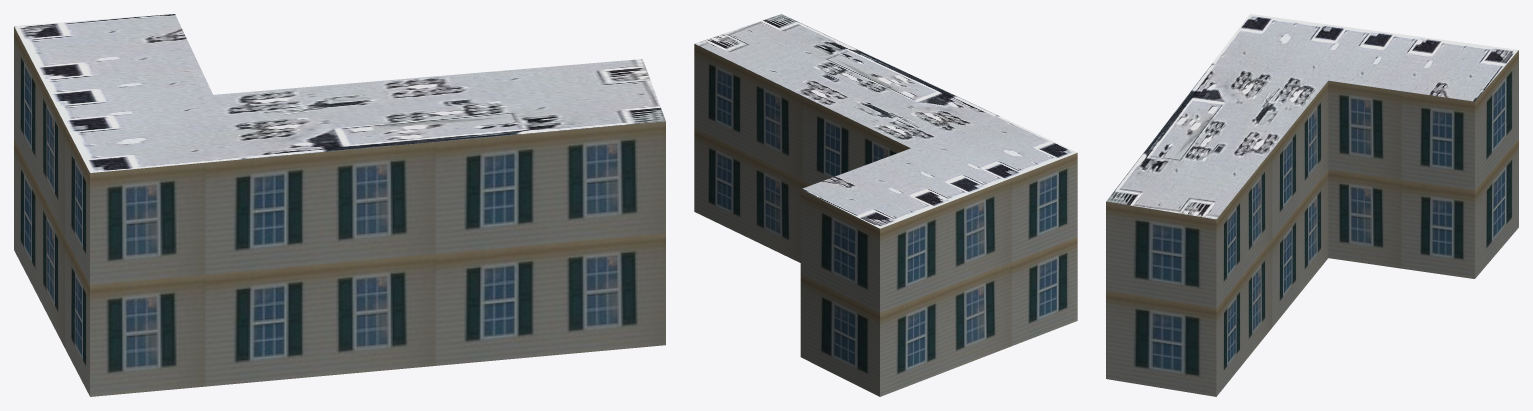
The model's file is ResTex__5090.fbx.
3 views of the same model, side by side, from view 1: azimuth 30°, elevation 25°; view 2: azimuth 150°, elevation 25°; view 3: azimuth 270°, elevation 25° (orthographic). The views are drawn at different scales.
Parts seen in each view (by area): view 1: CityEngineMaterial_7_m, CityEngineMaterial_m; view 2: CityEngineMaterial_7_m, CityEngineMaterial_m; view 3: CityEngineMaterial_7_m, CityEngineMaterial_m.
Boxes of the visible parts, left/top/right/bottom form: CityEngineMaterial_7_m: left=14, top=26, right=665, bottom=396; CityEngineMaterial_m: left=14, top=14, right=665, bottom=172; CityEngineMaterial_7_m: left=694, top=44, right=1077, bottom=396; CityEngineMaterial_m: left=695, top=14, right=1076, bottom=228; CityEngineMaterial_7_m: left=1106, top=50, right=1518, bottom=396; CityEngineMaterial_m: left=1106, top=14, right=1518, bottom=219.
Size of the model in its own units: 14.9 by 6 by 12.65.
Materials: 2 (2 with a texture image).
